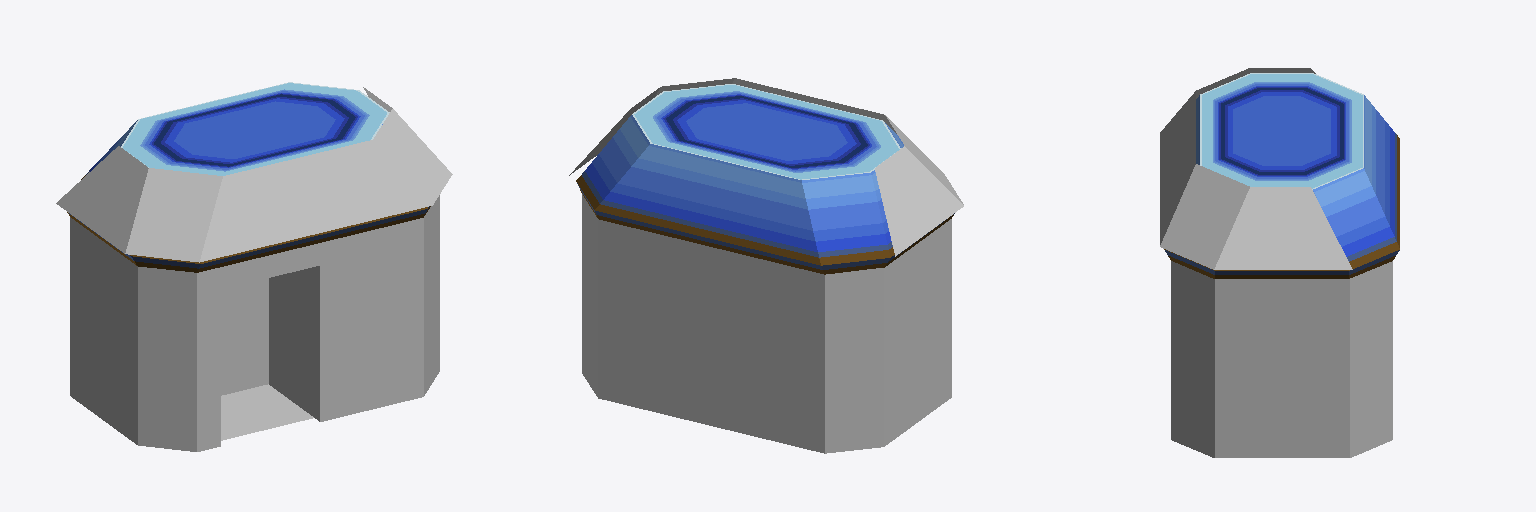
The picture shows the model from 3 angles: view 1: azimuth 30°, elevation 25°; view 2: azimuth 150°, elevation 25°; view 3: azimuth 270°, elevation 25°; orthographic projection.
Visible parts, largest first — view 1: Poké_Mart_lambert2, Poké_Mart_light2, Poké_Mart_lambert4; view 2: Poké_Mart_lambert2, Poké_Mart_lambert4, Poké_Mart_light2; view 3: Poké_Mart_lambert2, Poké_Mart_lambert4, Poké_Mart_light2.
Boxes of the visible parts, x1=… form: Poké_Mart_lambert2: x1=70, y1=195, x2=439, y2=451; Poké_Mart_light2: x1=56, y1=87, x2=452, y2=262; Poké_Mart_lambert4: x1=67, y1=82, x2=430, y2=272; Poké_Mart_lambert2: x1=582, y1=194, x2=951, y2=453; Poké_Mart_lambert4: x1=576, y1=84, x2=954, y2=274; Poké_Mart_light2: x1=569, y1=78, x2=963, y2=256; Poké_Mart_lambert2: x1=1171, y1=261, x2=1392, y2=457; Poké_Mart_lambert4: x1=1164, y1=73, x2=1399, y2=278; Poké_Mart_light2: x1=1160, y1=68, x2=1352, y2=269.
Bounding box in the file's own units: 65.59 × 49.29 × 41.71.
3 materials, 1 textured.